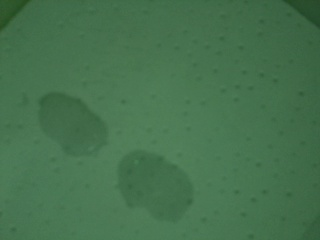Water_detected: (127, 155, 187, 213), (45, 98, 91, 149)
